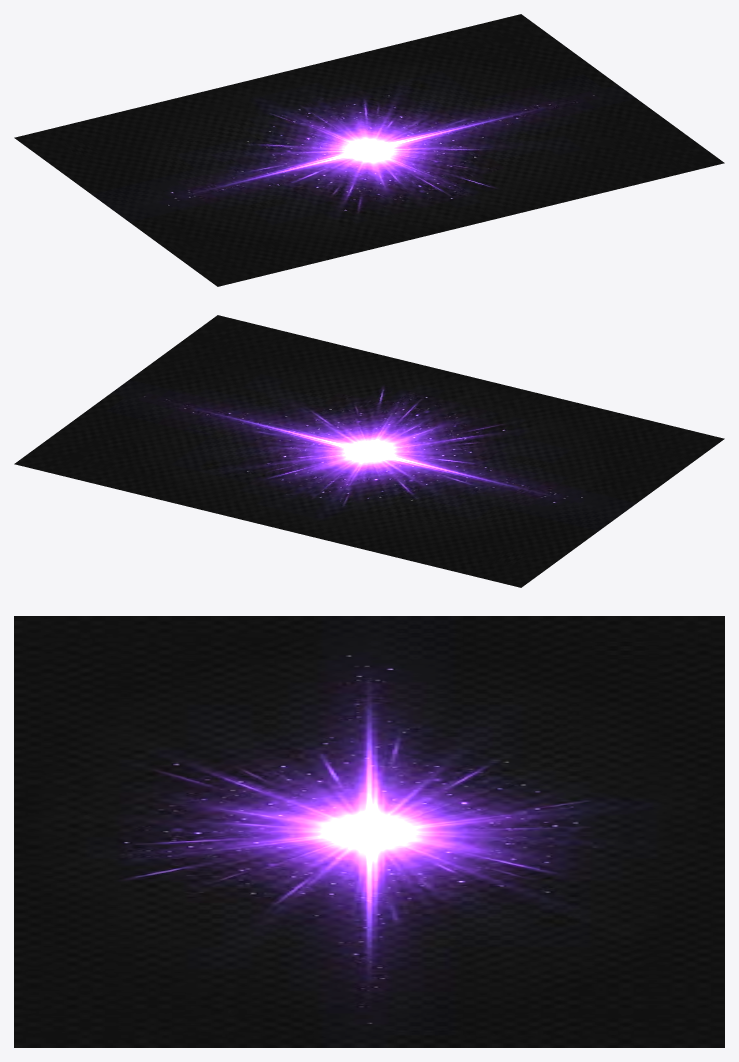
Rendered from uttm glow.glb.
The picture shows the model from 3 angles, top to bottom: view 1: azimuth 30°, elevation 25°; view 2: azimuth 150°, elevation 25°; view 3: azimuth 270°, elevation 25°; orthographic projection. The views are drawn at different scales.
Visible parts, largest first — view 1: light; view 2: light; view 3: light.
Part boxes in pixels (x1,y1,x2,y2): light: [14, 14, 724, 286]; light: [14, 315, 724, 587]; light: [14, 616, 724, 1047].
Size of the model in its own units: 76.26 by 0 by 53.05.
1 material, 1 textured.
